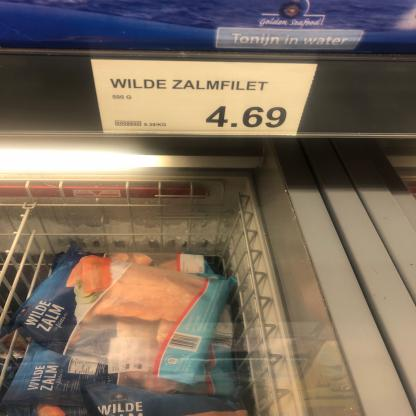prtg: (91, 59, 320, 137)
